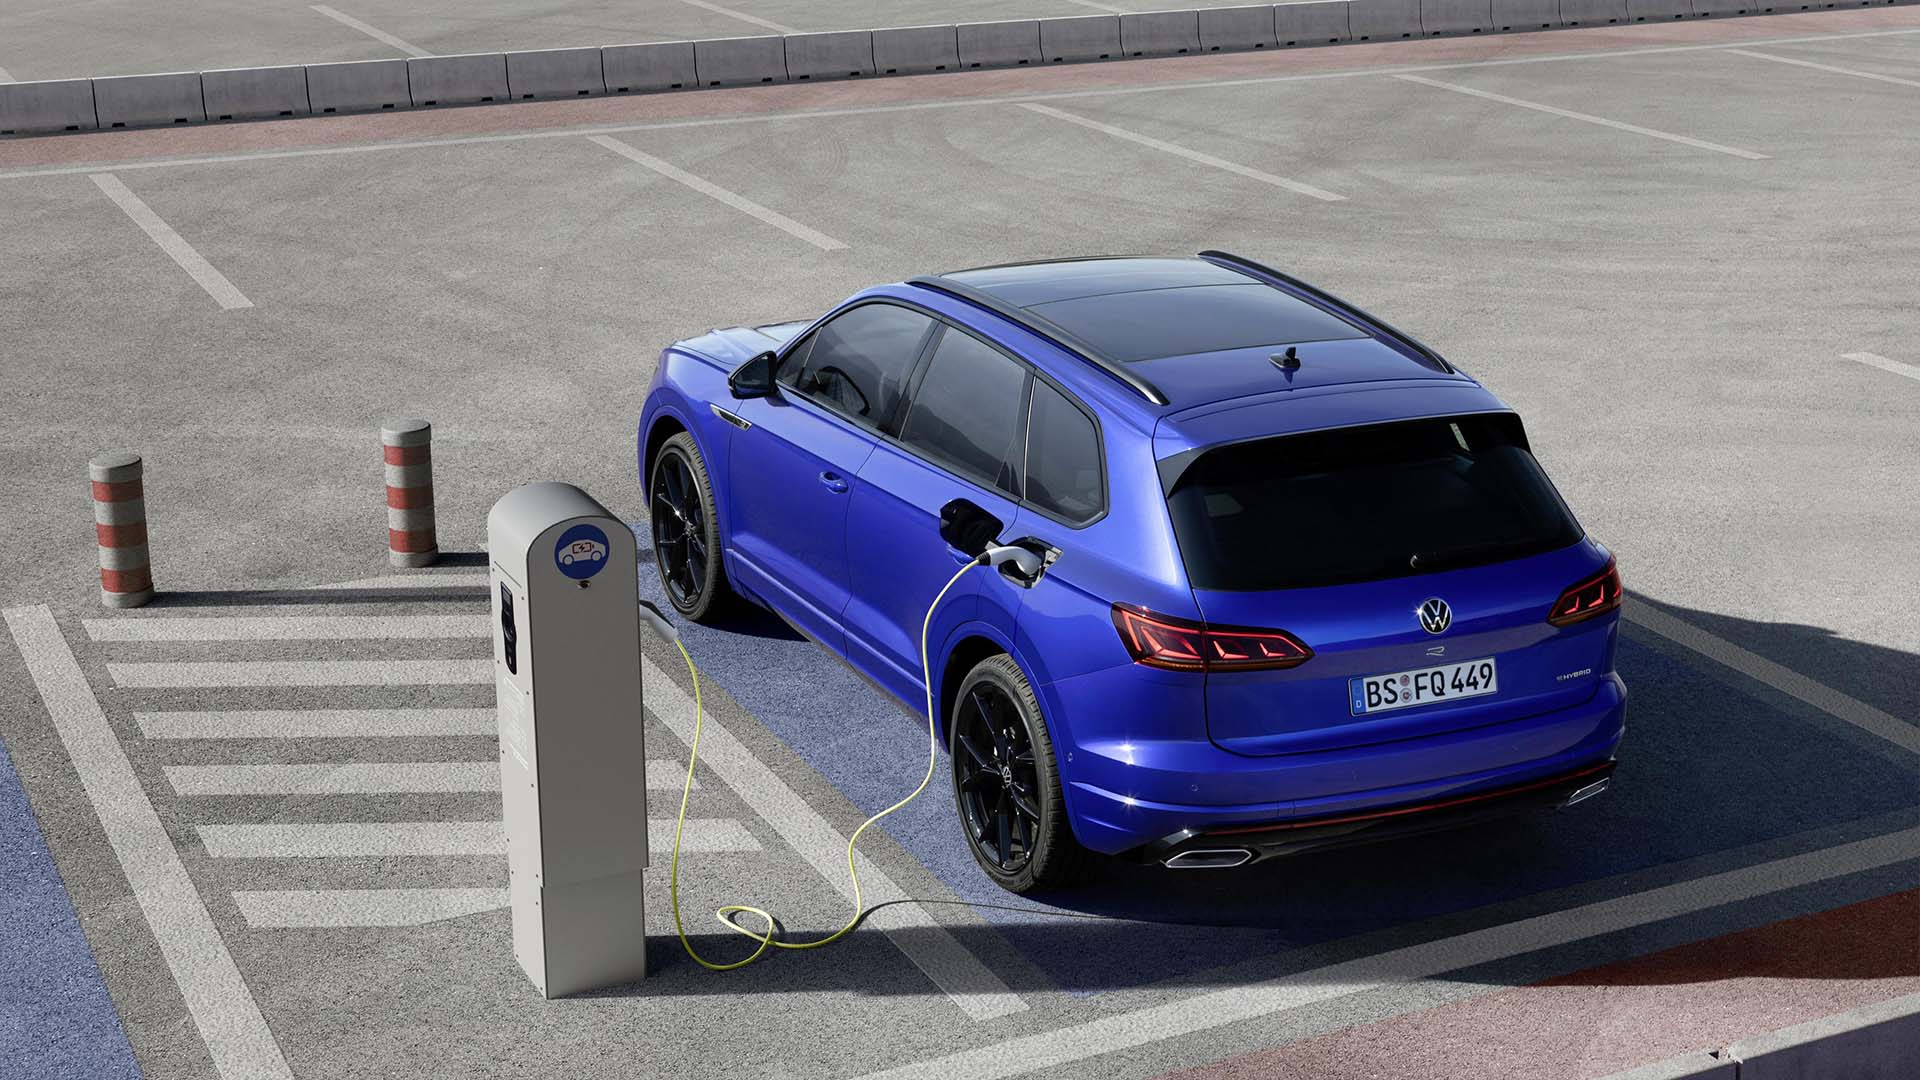car: (618, 239, 1639, 898)
